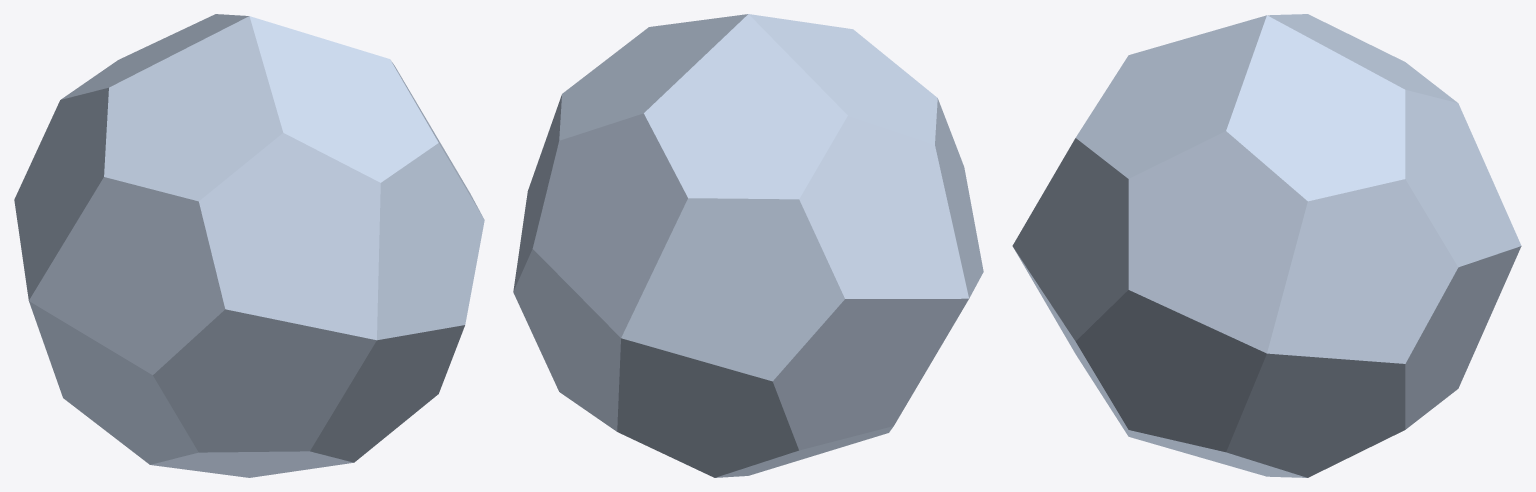
File: PentagonalIcositetrahedron_puzzle_solution.glb
The picture shows the model from 3 angles, left to right: view 1: azimuth 30°, elevation 25°; view 2: azimuth 150°, elevation 25°; view 3: azimuth 270°, elevation 25°; orthographic projection.
Bounding box in the file's own units: 2.72 × 2.72 × 2.72.
